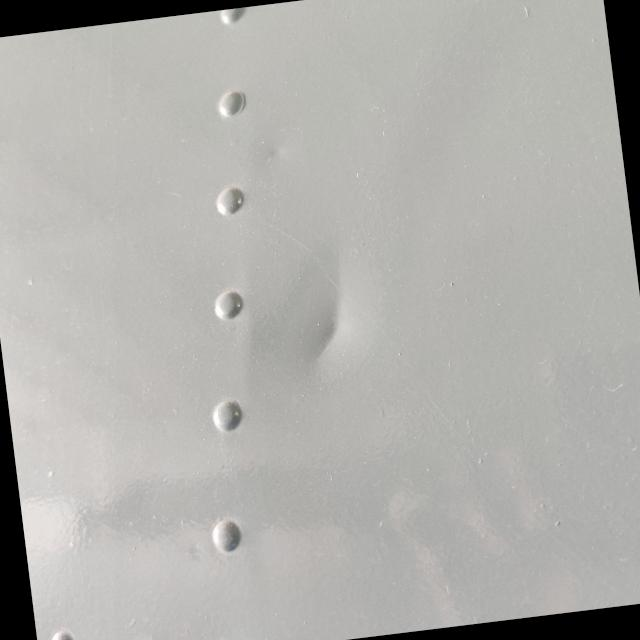dent: (269, 242, 393, 397)
